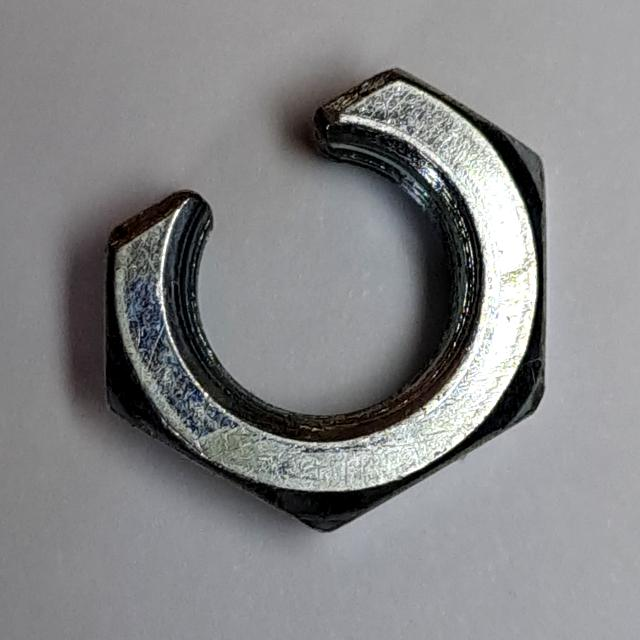Fracture: (92, 53, 566, 548)
